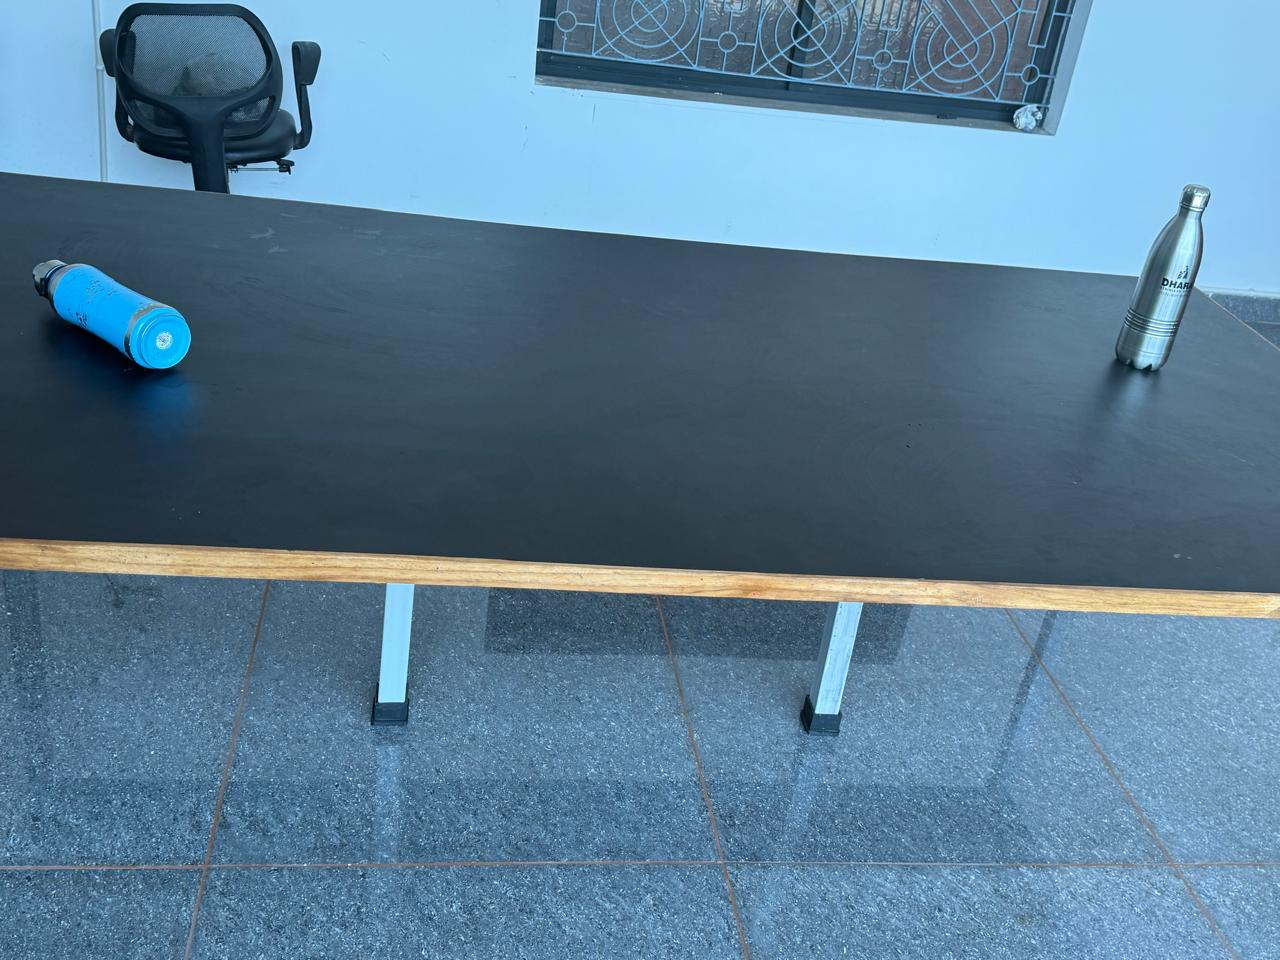bottle_on_table: (1114, 174, 1241, 405), (14, 239, 244, 364)
